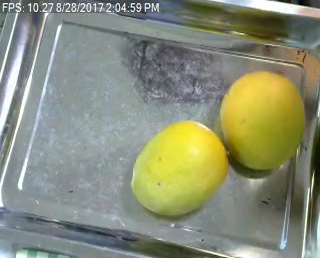Mango: (131, 117, 231, 216), (218, 69, 309, 169)
